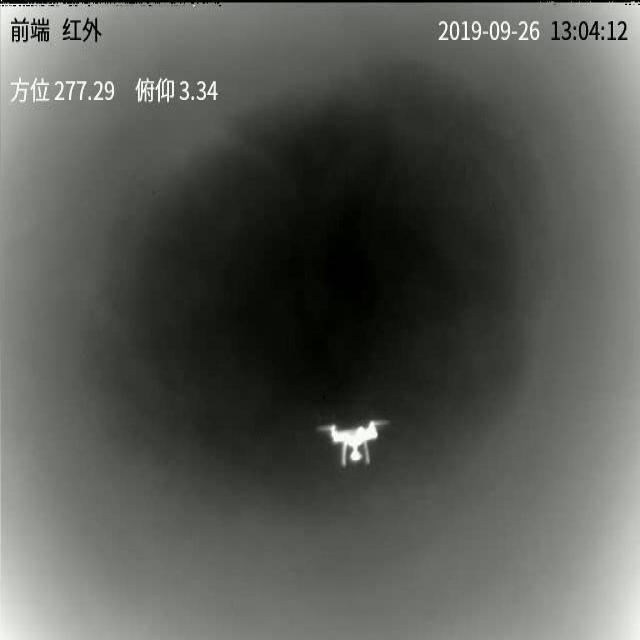drone: (319, 419, 389, 466)
